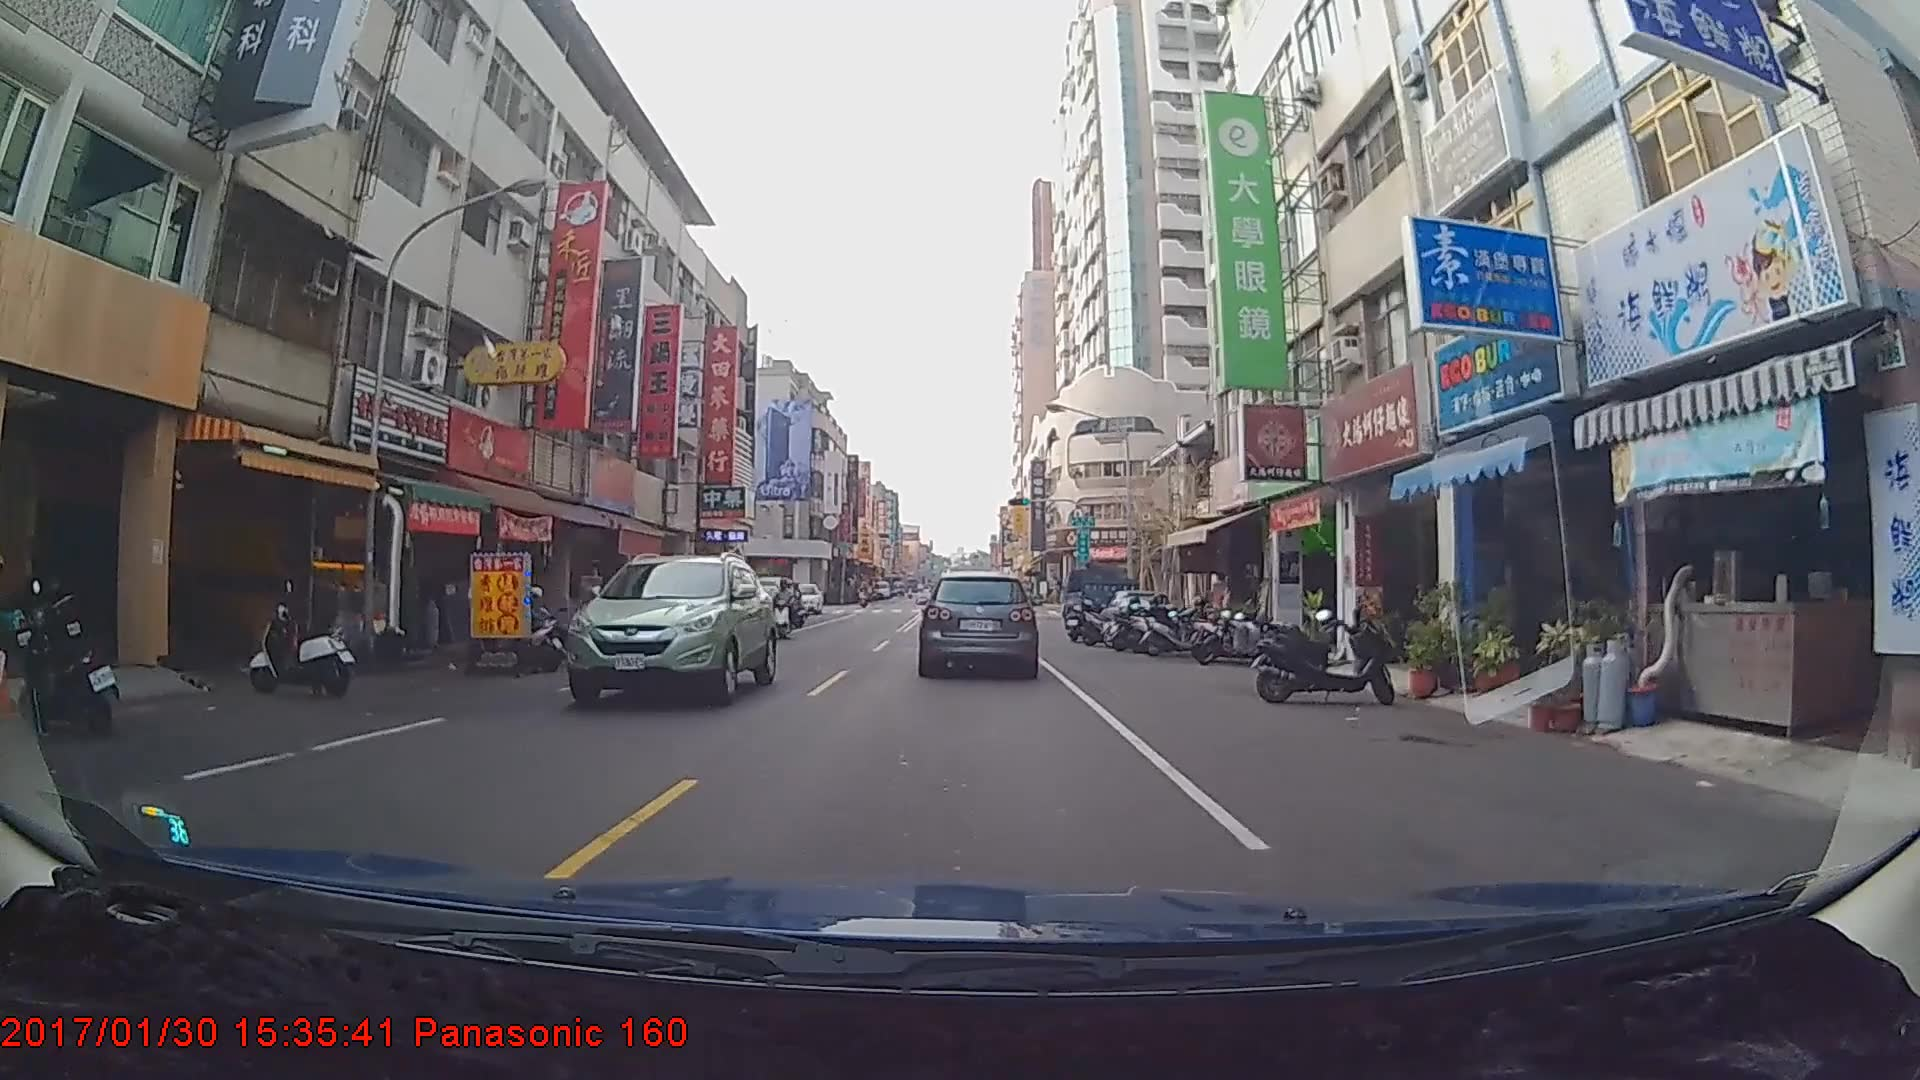vehicle: (564, 549, 777, 705), (920, 568, 1036, 675), (1063, 567, 1143, 633), (783, 583, 822, 615)
